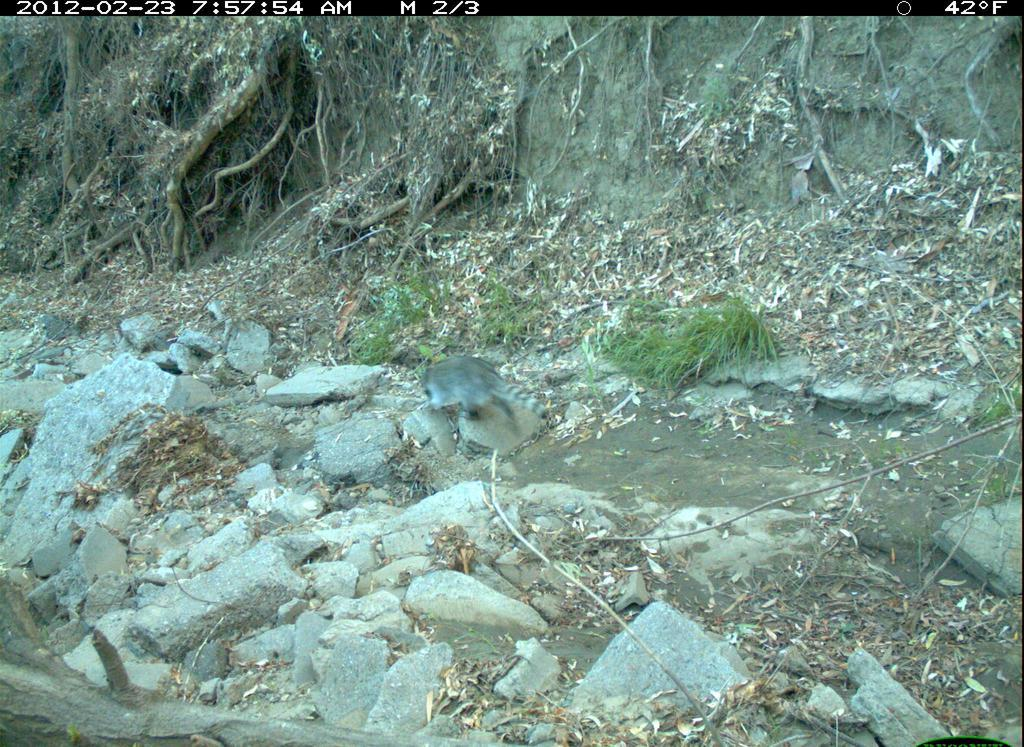raccoon: (411, 358, 550, 464)
